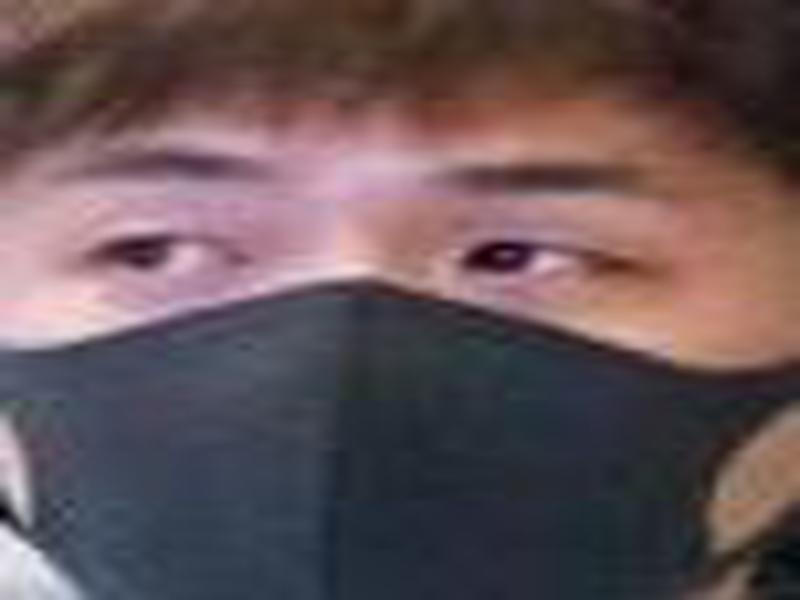with_mask: (1, 33, 793, 598)
